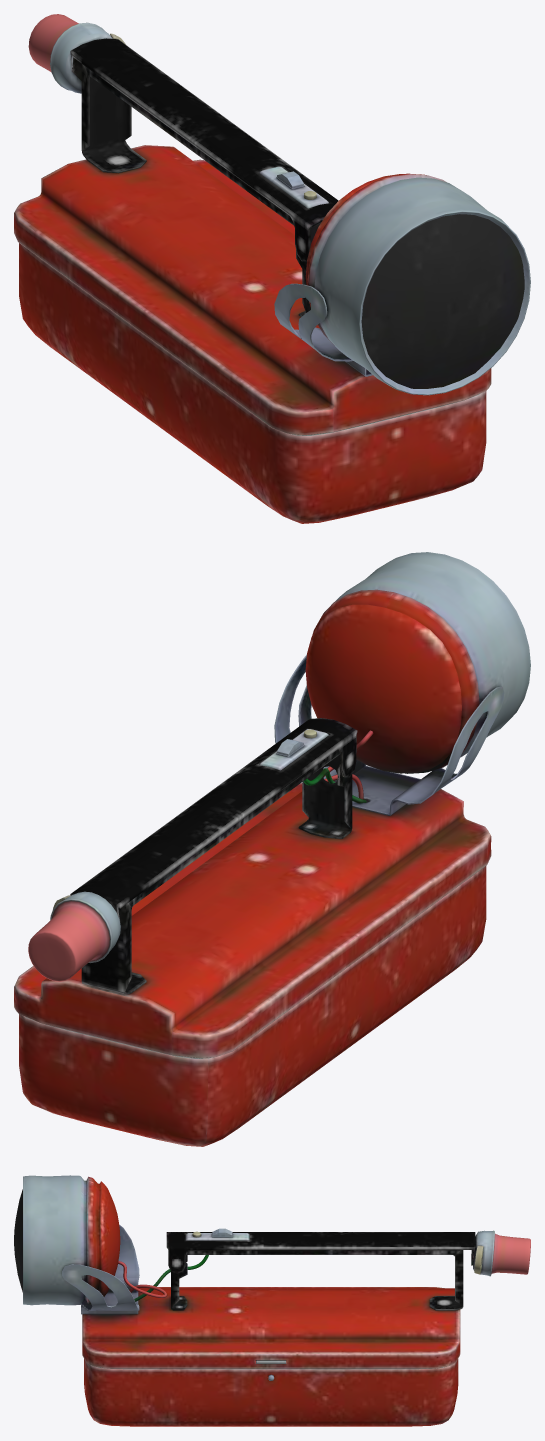
Rendered from vintage_flashlight.glb.
3 renders of one model, top to bottom at view 1: azimuth 30°, elevation 25°; view 2: azimuth 150°, elevation 25°; view 3: azimuth 270°, elevation 25°, orthographic. The views are drawn at different scales.
Parts seen in each view (by area): view 1: vintage_flashlight; view 2: vintage_flashlight; view 3: vintage_flashlight.
Part boxes in pixels (x1=…): vintage_flashlight: x1=14, y1=14, x2=530, y2=523; vintage_flashlight: x1=14, y1=552, x2=530, y2=1146; vintage_flashlight: x1=14, y1=1175, x2=530, y2=1426.
Bounding box in the file's own units: 0.0959 × 0.1443 × 0.3055.
Materials: 2 (2 with a texture image).
